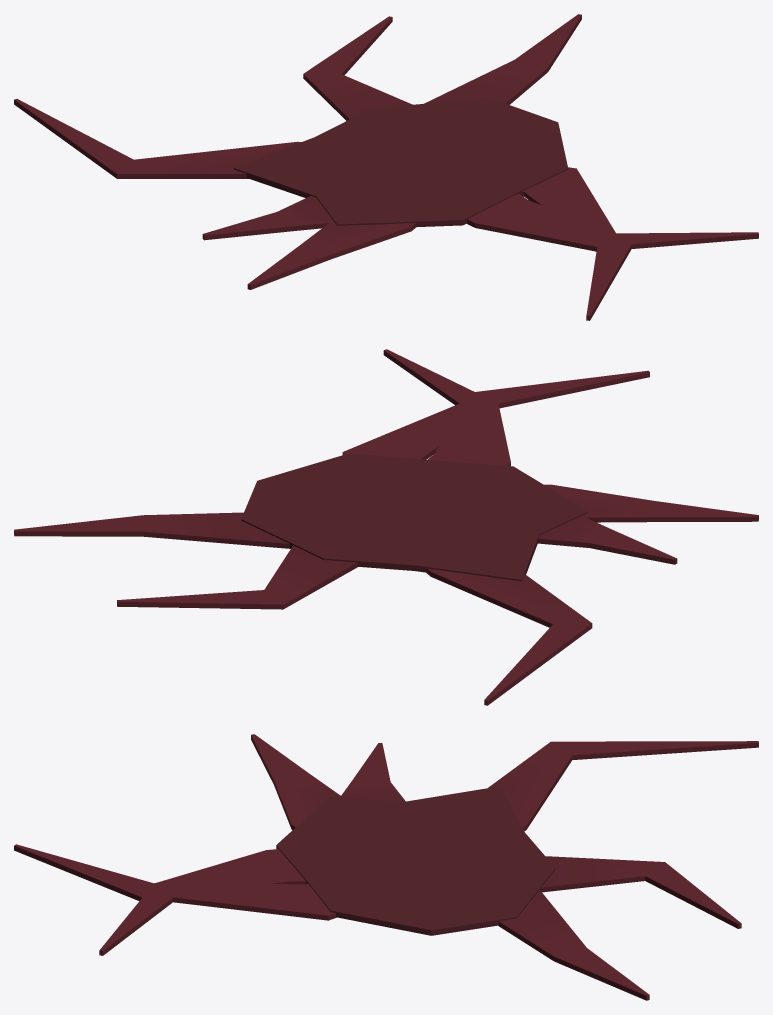
Rendered from PT_InfectionPatch.glb.
3 views of the same model, one above another, from view 1: azimuth 30°, elevation 25°; view 2: azimuth 150°, elevation 25°; view 3: azimuth 270°, elevation 25° (orthographic). The views are drawn at different scales.
Visible parts, largest first — view 1: PT_InfectionPatch__Body; view 2: PT_InfectionPatch__Body; view 3: PT_InfectionPatch__Body.
Part boxes in pixels (x1,y1,x2,y2): PT_InfectionPatch__Body: [14, 14, 758, 320]; PT_InfectionPatch__Body: [14, 349, 758, 705]; PT_InfectionPatch__Body: [14, 734, 758, 1000].
Size of the model in its own units: 7.99 by 0.09 by 9.61.
